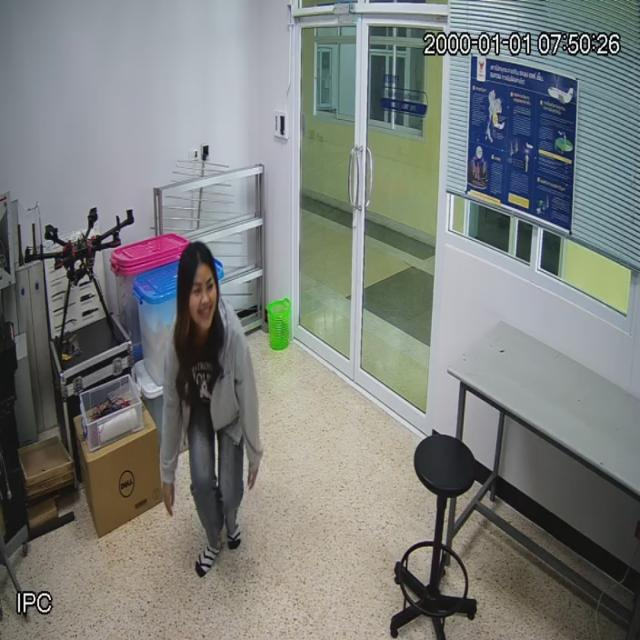normal: (158, 238, 272, 585)
